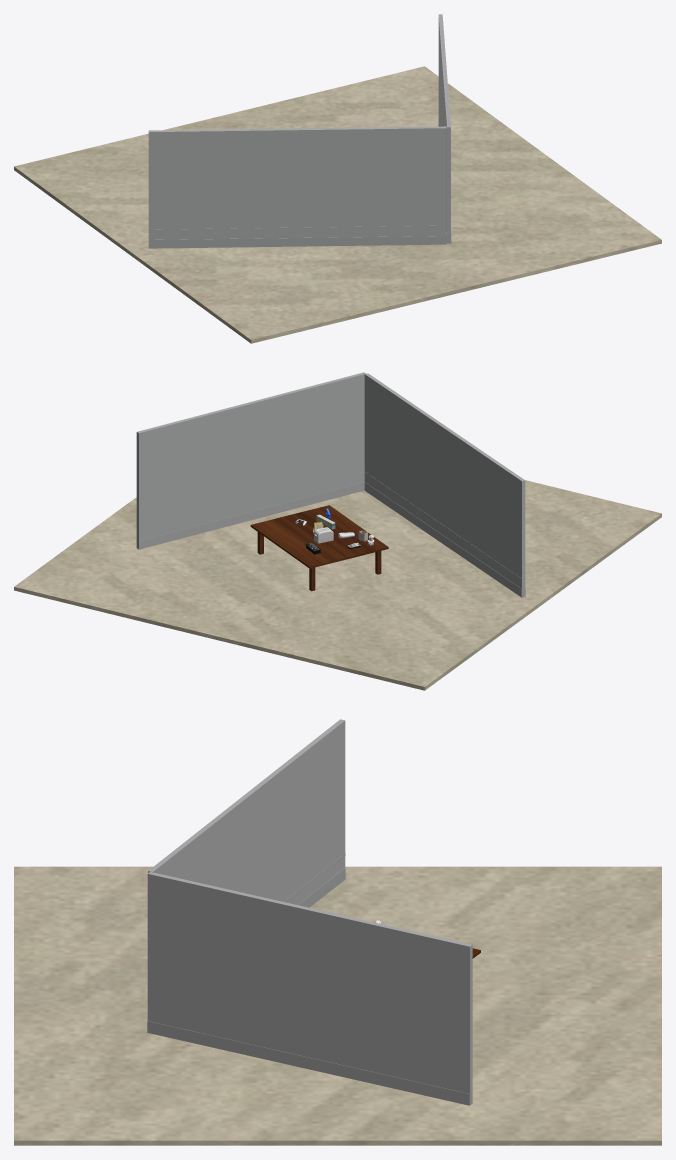
The model's file is ours.glb.
3 views of the same model, one above another, from view 1: azimuth 30°, elevation 25°; view 2: azimuth 150°, elevation 25°; view 3: azimuth 270°, elevation 25° (orthographic). The views are drawn at different scales.
Visible parts, largest first — view 1: floor_0, wall_1, wall_1_baseboard, wall_0, wall_1_upper_trim; view 2: floor_0, wall_0, wall_1, table_0, wall_0_baseboard, wall_1_baseboard; view 3: floor_0, wall_0, wall_1, wall_0_baseboard.
Part boxes in pixels (x1,y1,x2,y2): floor_0: (14,66,661,343); wall_1: (148,126,446,239); wall_1_baseboard: (148,236,446,248); wall_0: (438,14,450,243); wall_1_upper_trim: (148,225,446,230); floor_0: (14,480,661,690); wall_0: (136,372,365,549); wall_1: (364,373,525,588); table_0: (250,505,388,591); wall_0_baseboard: (136,482,364,549); wall_1_baseboard: (364,482,525,597); floor_0: (14,866,661,1145); wall_0: (147,871,472,1093); wall_1: (148,719,345,904); wall_0_baseboard: (147,1021,472,1105).
Size of the model in its own units: 7 by 1.95 by 7.
21 materials, 13 textured.
